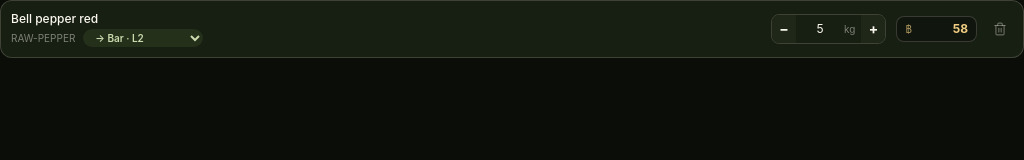
Test: POLineEditor › refuses a zero or negative quantity locally and restores the old value
This screenshot has width=1024, height=160.
Replace the text in the field named "Quantity of Bell pepper red" with "0": (820, 29) [796,21,844,37]
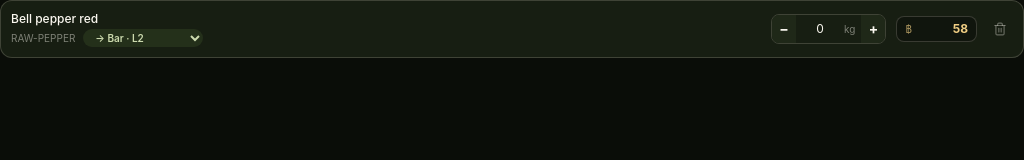
Leave the field named "Quantity of Bell pepper red", box [796,21,844,37]
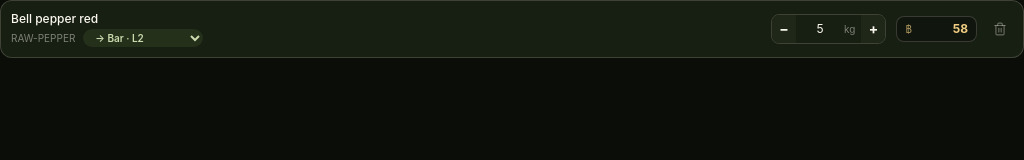
Check: the field named "Quantity of Bell pepper red" holds "5", box [796,21,844,37]
